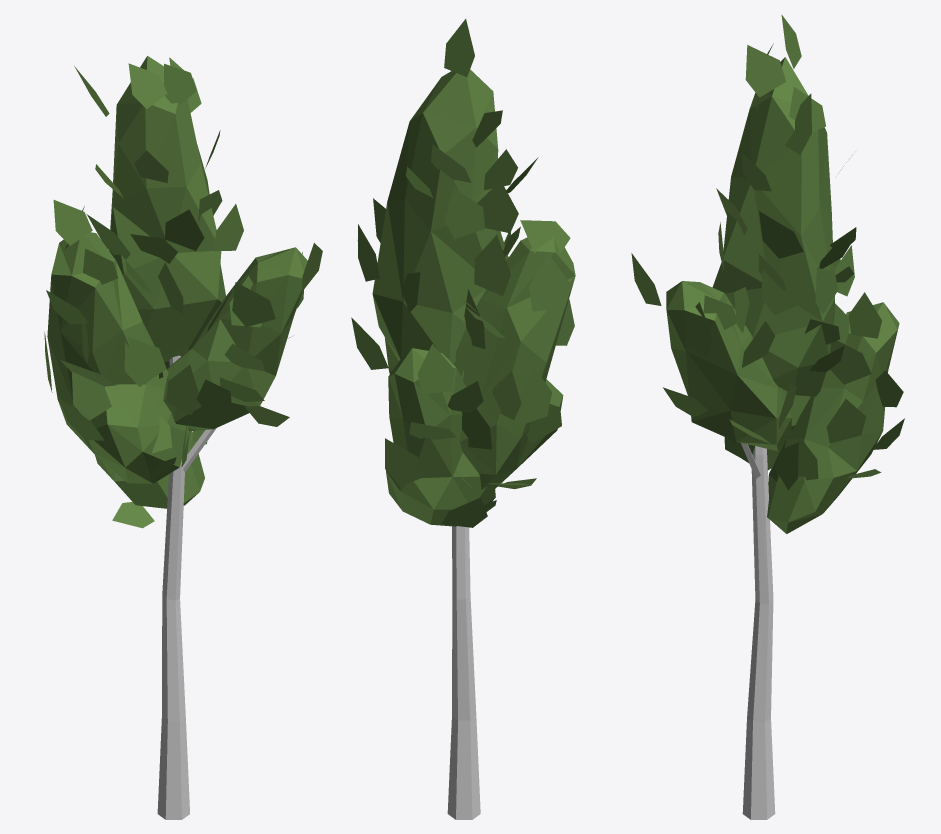
Rendered from tree-poplar-sapling-a.gltf.
3 views of the same model, side by side, from view 1: azimuth 30°, elevation 25°; view 2: azimuth 150°, elevation 25°; view 3: azimuth 270°, elevation 25° (orthographic).
Parts seen in each view (by area): view 1: tree-poplar-sapling-a; view 2: tree-poplar-sapling-a; view 3: tree-poplar-sapling-a.
Part boxes in pixels (<box>): tree-poplar-sapling-a: <box>44,56,322,819</box>; tree-poplar-sapling-a: <box>351,19,575,819</box>; tree-poplar-sapling-a: <box>631,14,904,819</box>.
Size of the model in its own units: 0.00852 by 0.0252 by 0.0085.
